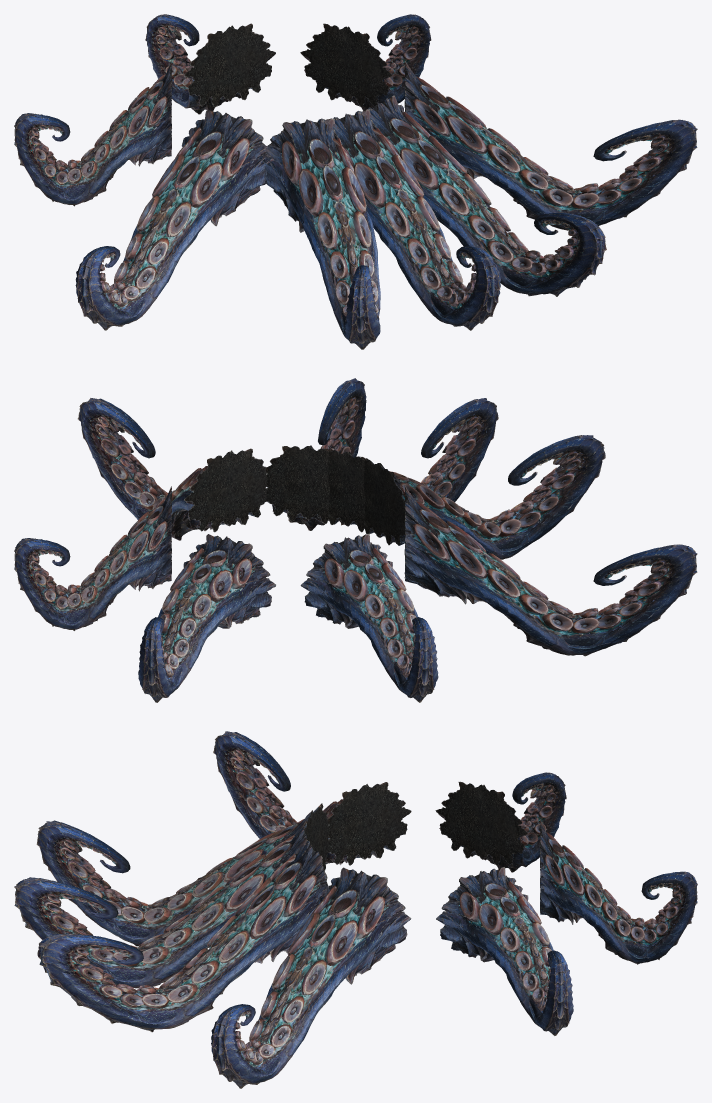
The model's file is Kraken_AttachedTendrils.fbx.
3 views of the same model, one above another, from view 1: azimuth 30°, elevation 25°; view 2: azimuth 150°, elevation 25°; view 3: azimuth 270°, elevation 25° (orthographic).
Parts seen in each view (by area): view 1: AttachedTendril_0, AttachedTendril_2, AttachedTendril_6, AttachedTendril_7, AttachedTendril_1, AttachedTendril_5, AttachedTendril_4, AttachedTendril_3; view 2: AttachedTendril_0, AttachedTendril_6, AttachedTendril_2, AttachedTendril_5, AttachedTendril_4, AttachedTendril_3, AttachedTendril_1, AttachedTendril_7; view 3: AttachedTendril_7, AttachedTendril_2, AttachedTendril_1, AttachedTendril_3, AttachedTendril_6, AttachedTendril_0, AttachedTendril_4, AttachedTendril_5.
Part boxes in pixels (bbox=[...]): AttachedTendril_0: bbox=[75, 109, 273, 330]; AttachedTendril_2: bbox=[404, 61, 697, 230]; AttachedTendril_6: bbox=[257, 118, 380, 349]; AttachedTendril_7: bbox=[355, 95, 606, 296]; AttachedTendril_1: bbox=[308, 109, 500, 330]; AttachedTendril_5: bbox=[14, 61, 171, 206]; AttachedTendril_4: bbox=[145, 14, 275, 114]; AttachedTendril_3: bbox=[300, 14, 431, 110]; AttachedTendril_0: bbox=[404, 486, 697, 656]; AttachedTendril_6: bbox=[356, 435, 605, 559]; AttachedTendril_2: bbox=[77, 398, 266, 540]; AttachedTendril_5: bbox=[300, 533, 438, 702]; AttachedTendril_4: bbox=[138, 534, 275, 702]; AttachedTendril_3: bbox=[14, 486, 171, 630]; AttachedTendril_1: bbox=[316, 398, 498, 532]; AttachedTendril_7: bbox=[266, 378, 366, 530]; AttachedTendril_7: bbox=[37, 837, 328, 1032]; AttachedTendril_2: bbox=[211, 867, 411, 1088]; AttachedTendril_1: bbox=[14, 820, 307, 988]; AttachedTendril_3: bbox=[436, 867, 573, 1035]; AttachedTendril_6: bbox=[36, 803, 328, 946]; AttachedTendril_0: bbox=[213, 731, 411, 865]; AttachedTendril_4: bbox=[539, 819, 697, 964]; AttachedTendril_5: bbox=[435, 772, 566, 872].
Bounding box in the file's own units: 1260 × 299 × 1205.
